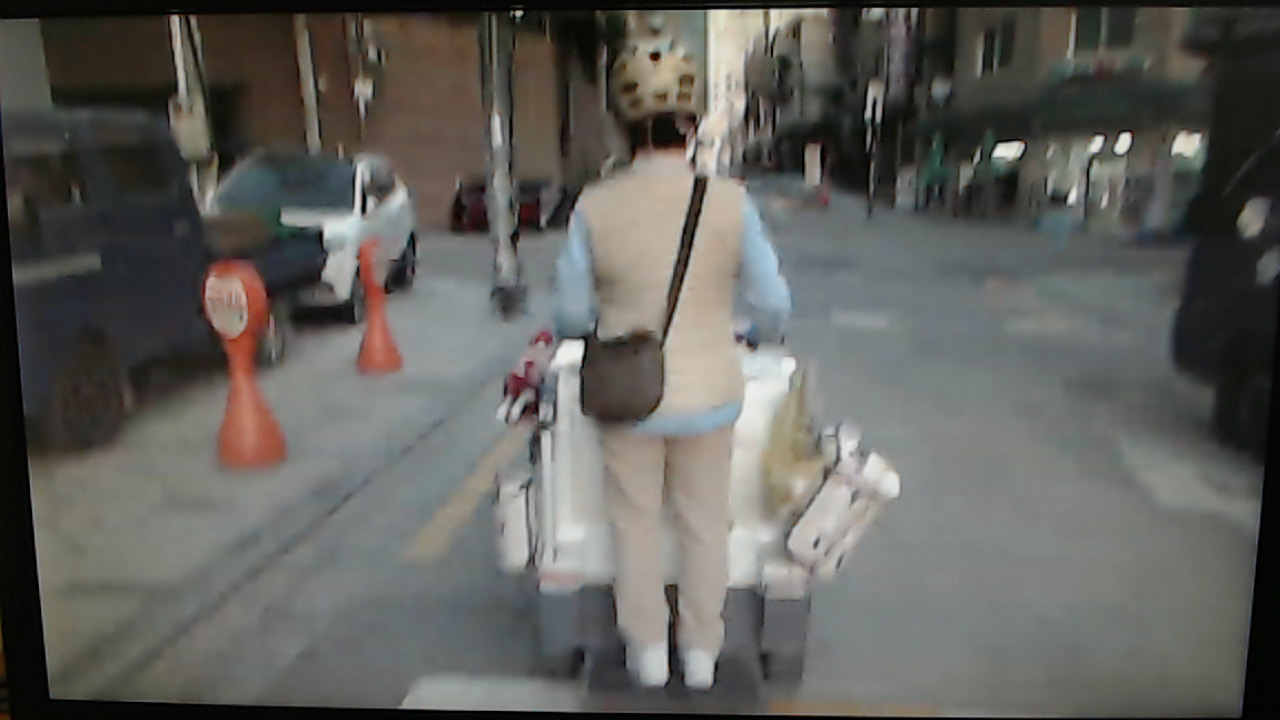Yakurut: (522, 29, 797, 706)
